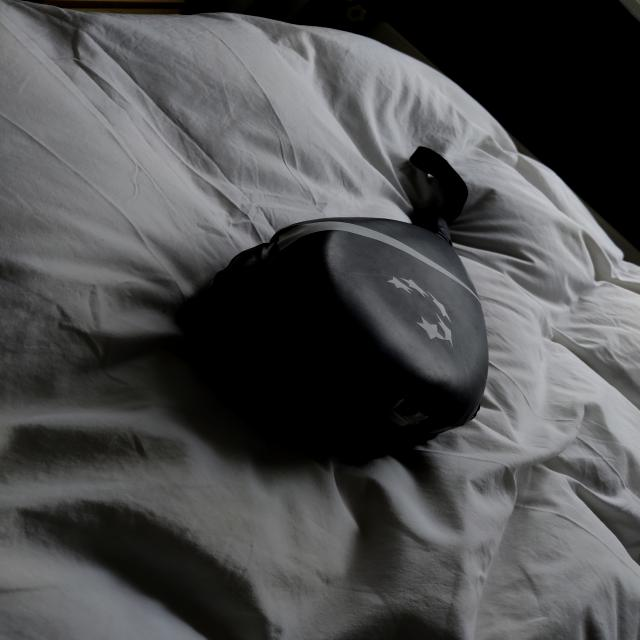paddle: (200, 210, 494, 462)
